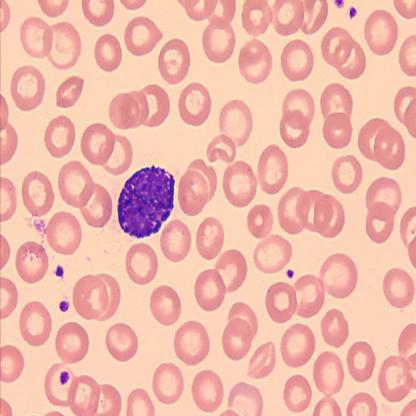Basophil: (115, 162, 176, 240)
